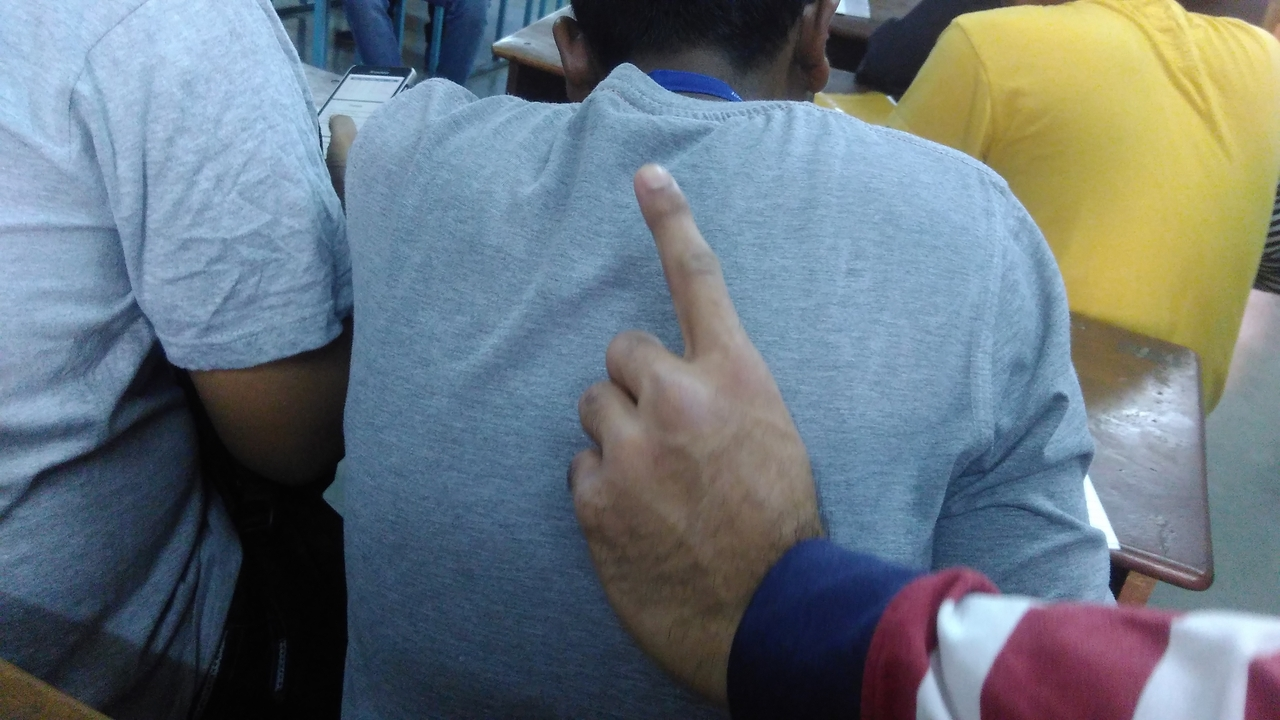fingertip: (626, 148, 686, 208)
